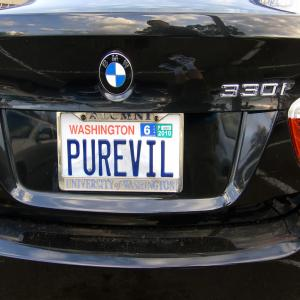Vehicle-registration-plate: (56, 115, 185, 193)
